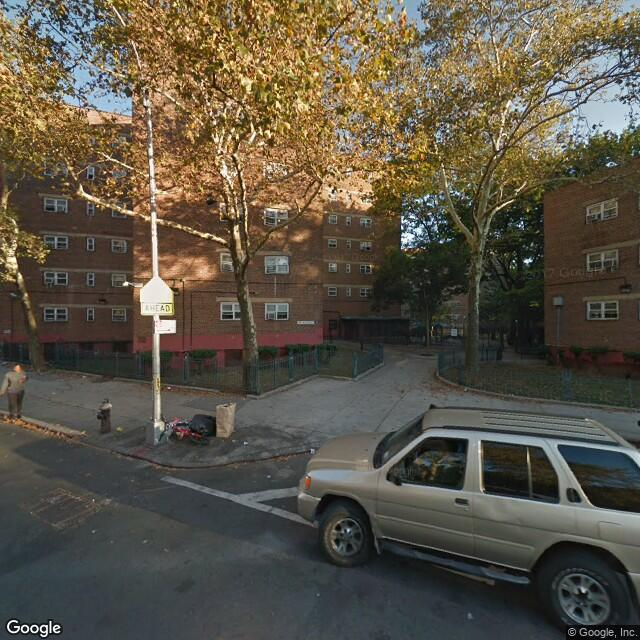litter: (166, 385, 171, 390), (242, 441, 247, 445), (468, 613, 471, 617), (267, 474, 269, 476)
